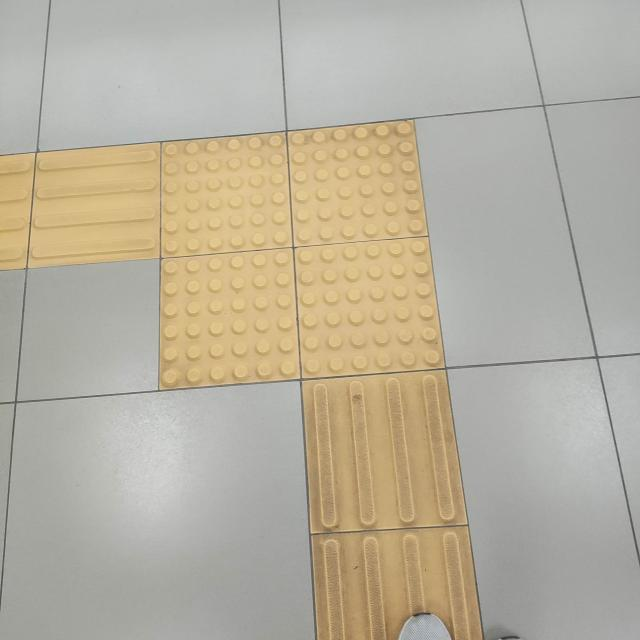kiri: (0, 87, 505, 453)
